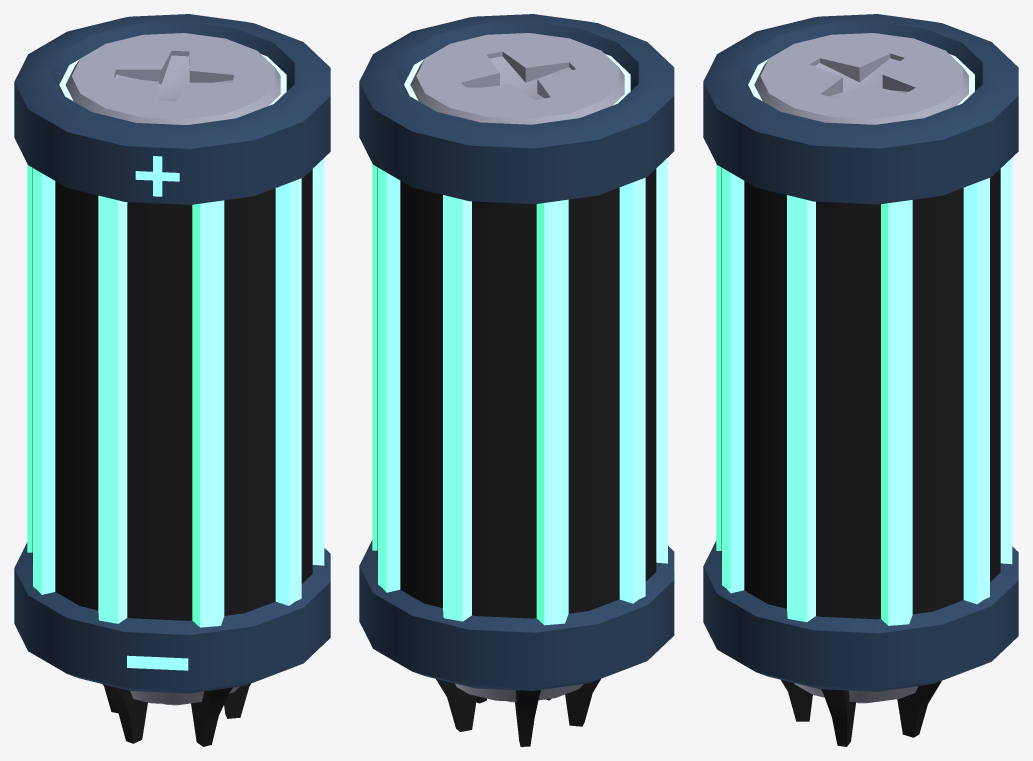
File: Misc_Battery_Emit.glb
The picture shows the model from 3 angles, left to right: view 1: azimuth 30°, elevation 25°; view 2: azimuth 150°, elevation 25°; view 3: azimuth 270°, elevation 25°; orthographic projection.
Parts seen in each view (by area): view 1: Misc_Battery_Emit.001; view 2: Misc_Battery_Emit.001; view 3: Misc_Battery_Emit.001.
Boxes of the visible parts, bbox=[...] form: Misc_Battery_Emit.001: bbox=[14, 14, 330, 746]; Misc_Battery_Emit.001: bbox=[359, 14, 674, 746]; Misc_Battery_Emit.001: bbox=[703, 14, 1018, 746].
Bounding box in the file's own units: 0.0623 × 0.1402 × 0.062.
